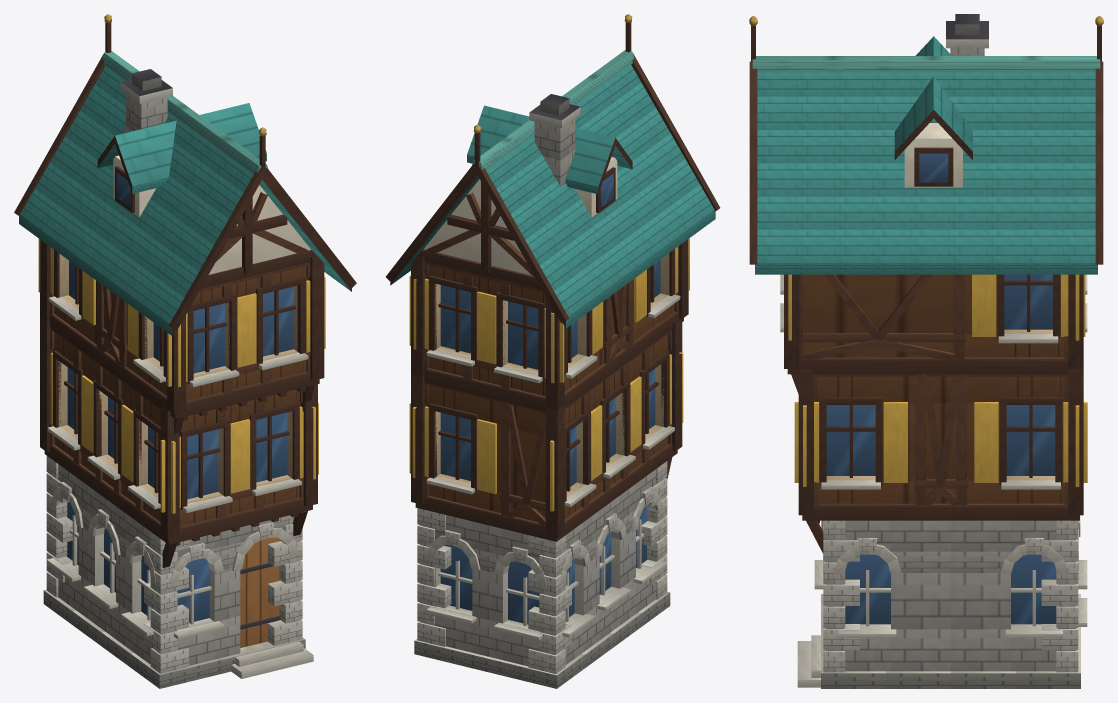
Rendered from res_townhouse_03.glb.
3 renders of one model, left to right at view 1: azimuth 30°, elevation 25°; view 2: azimuth 150°, elevation 25°; view 3: azimuth 270°, elevation 25°, orthographic. The views are drawn at different scales.
Visible parts, largest first — view 1: res_townhouse_03; view 2: res_townhouse_03; view 3: res_townhouse_03.
Part boxes in pixels (bbox=[...]): res_townhouse_03: bbox=[14, 14, 356, 688]; res_townhouse_03: bbox=[386, 14, 720, 688]; res_townhouse_03: bbox=[749, 14, 1103, 688].
Size of the model in its own units: 4.89 by 14.3 by 7.25.
Materials: 1 (1 with a texture image).
